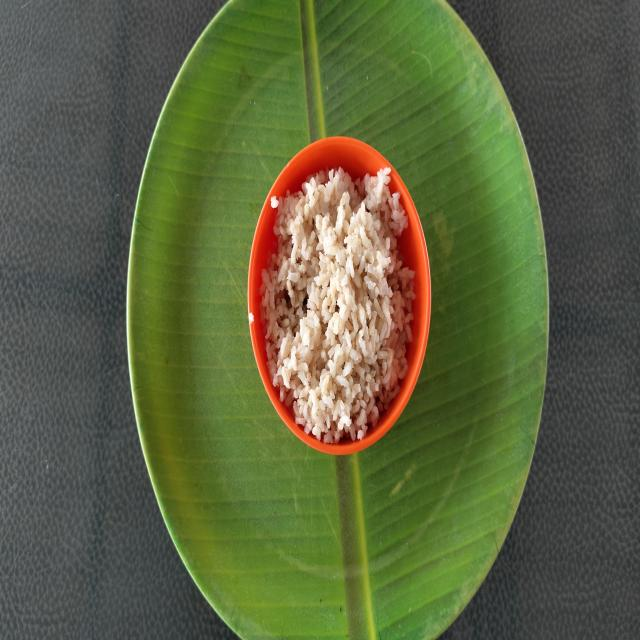brown-rice: (260, 166, 414, 443)
